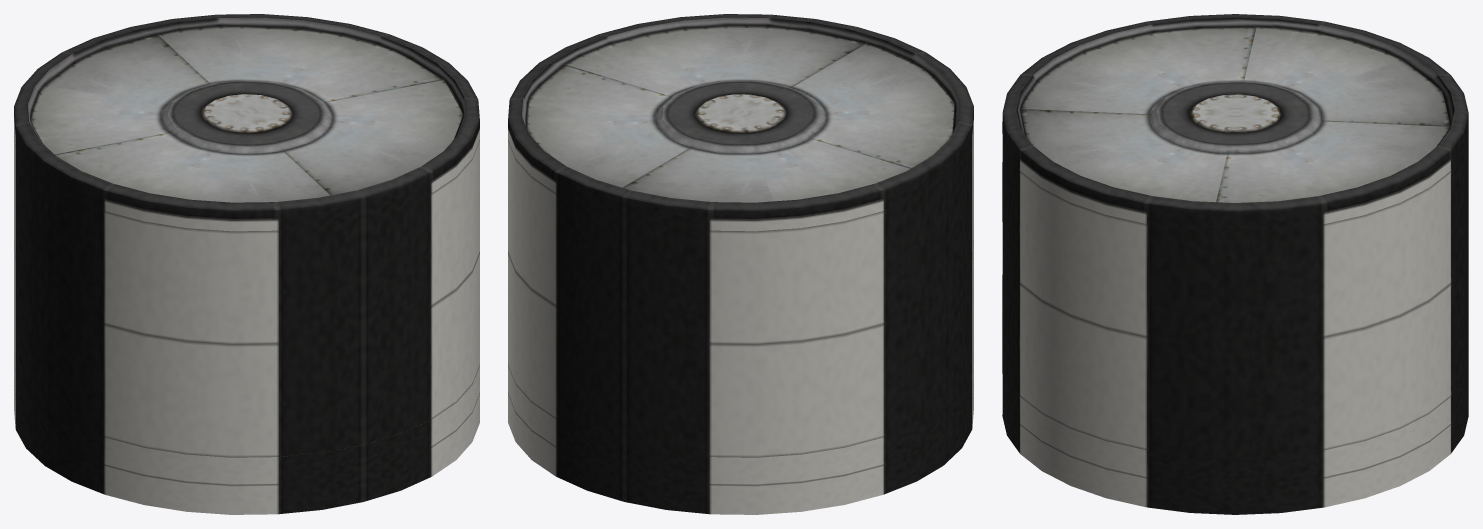
Rendered from LR91_Mini.FBX.
3 renders of one model, left to right at view 1: azimuth 30°, elevation 25°; view 2: azimuth 150°, elevation 25°; view 3: azimuth 270°, elevation 25°, orthographic.
Visible parts, largest first — view 1: fairing, RocketLR91; view 2: fairing, RocketLR91; view 3: fairing, RocketLR91.
Boxes of the visible parts, <box> form: fairing: <box>14,127,479,514</box>; RocketLR91: <box>14,14,479,231</box>; fairing: <box>508,127,973,514</box>; RocketLR91: <box>508,14,973,231</box>; fairing: <box>1002,134,1468,514</box>; RocketLR91: <box>1002,14,1468,231</box>.
Size of what is drawn, in the model's own units: 125 by 98.63 by 125.
